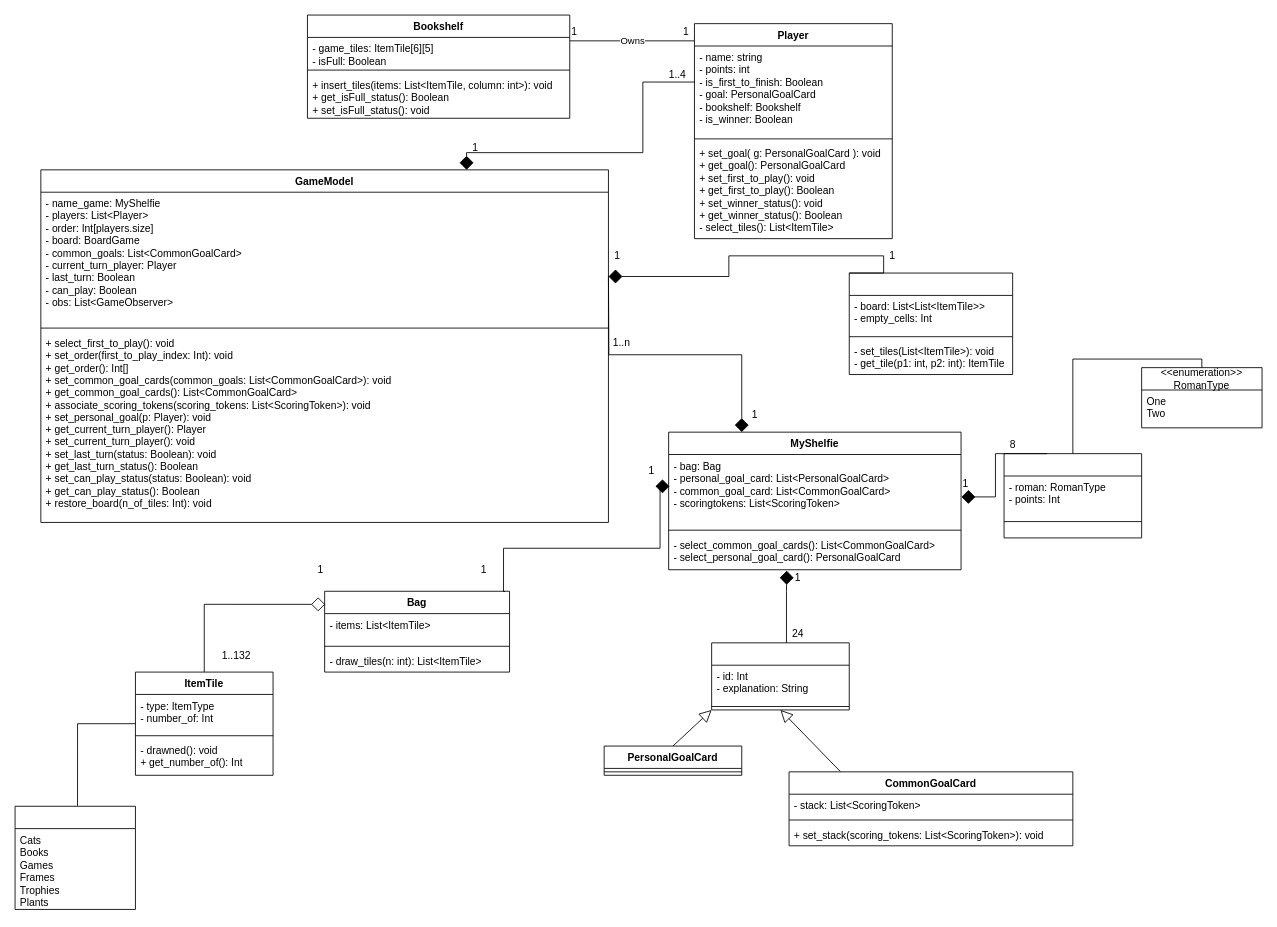
This 1277x927 diagram has some shape labels left out. The box of each missing label's shape, as (x1, y1, x2, y2) in pixels:
<<enumeration>> ItemType: (14, 805, 135, 909)
BoardGame: (848, 272, 1013, 375)
ScoringToken: (1003, 453, 1142, 538)
{abstract}GoalCard: (711, 642, 849, 710)
